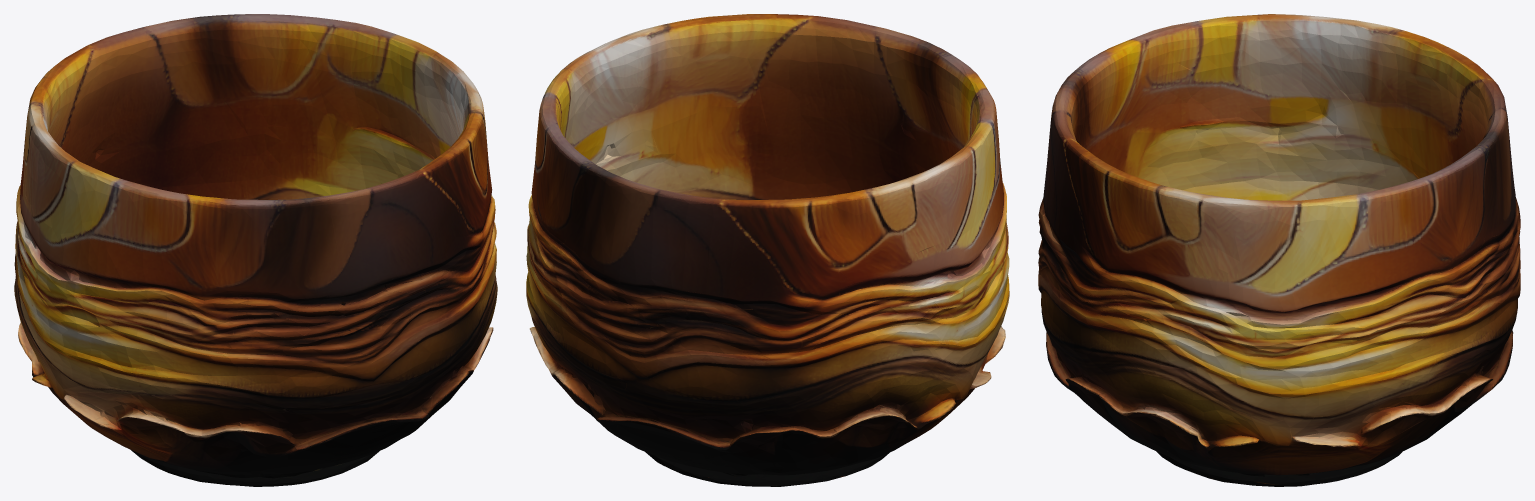
File: wooden-cup-dune.jpeg.glb
3 renders of one model, left to right at view 1: azimuth 30°, elevation 25°; view 2: azimuth 150°, elevation 25°; view 3: azimuth 270°, elevation 25°, orthographic.
Parts seen in each view (by area): view 1: world; view 2: world; view 3: world.
Boxes of the visible parts, x1,y1,x2,y2 form: world: [14, 14, 497, 486]; world: [526, 14, 1009, 486]; world: [1038, 14, 1520, 486].
Size of the model in its own units: 0.9997 by 0.74 by 0.9991.
1 material, 1 textured.
